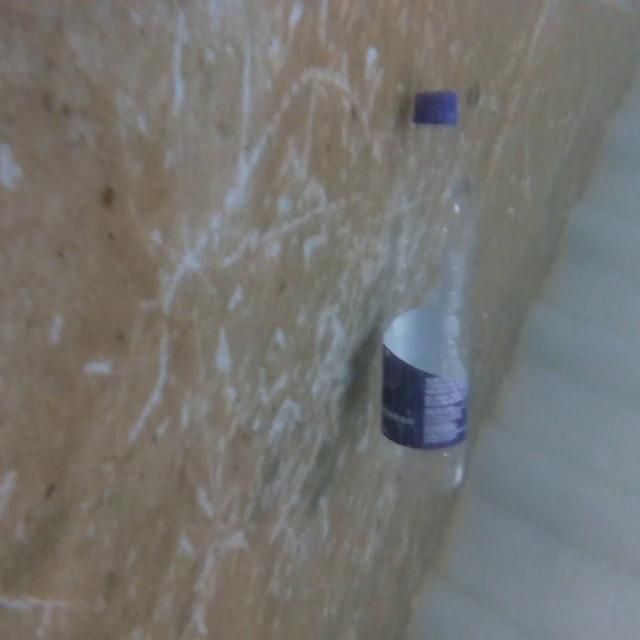plastic bottle: (378, 82, 500, 511)
